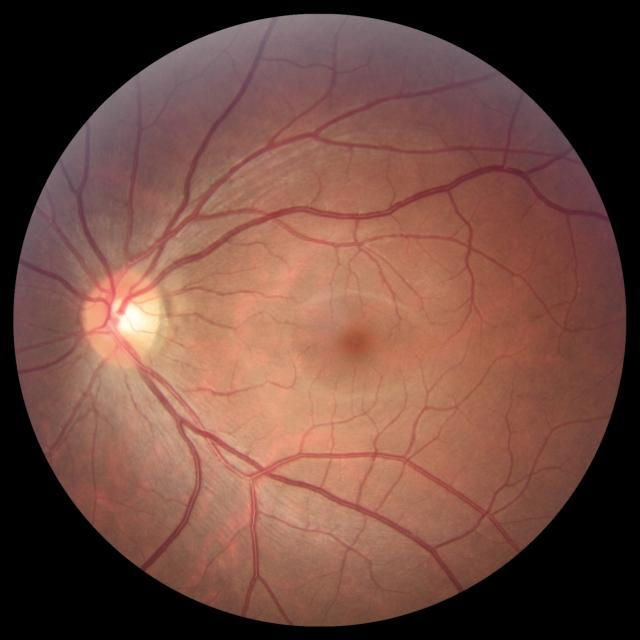OC: (104, 296, 143, 336)
OD: (83, 268, 165, 364)
